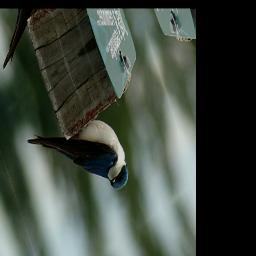Swallow: (26, 81, 133, 239)
